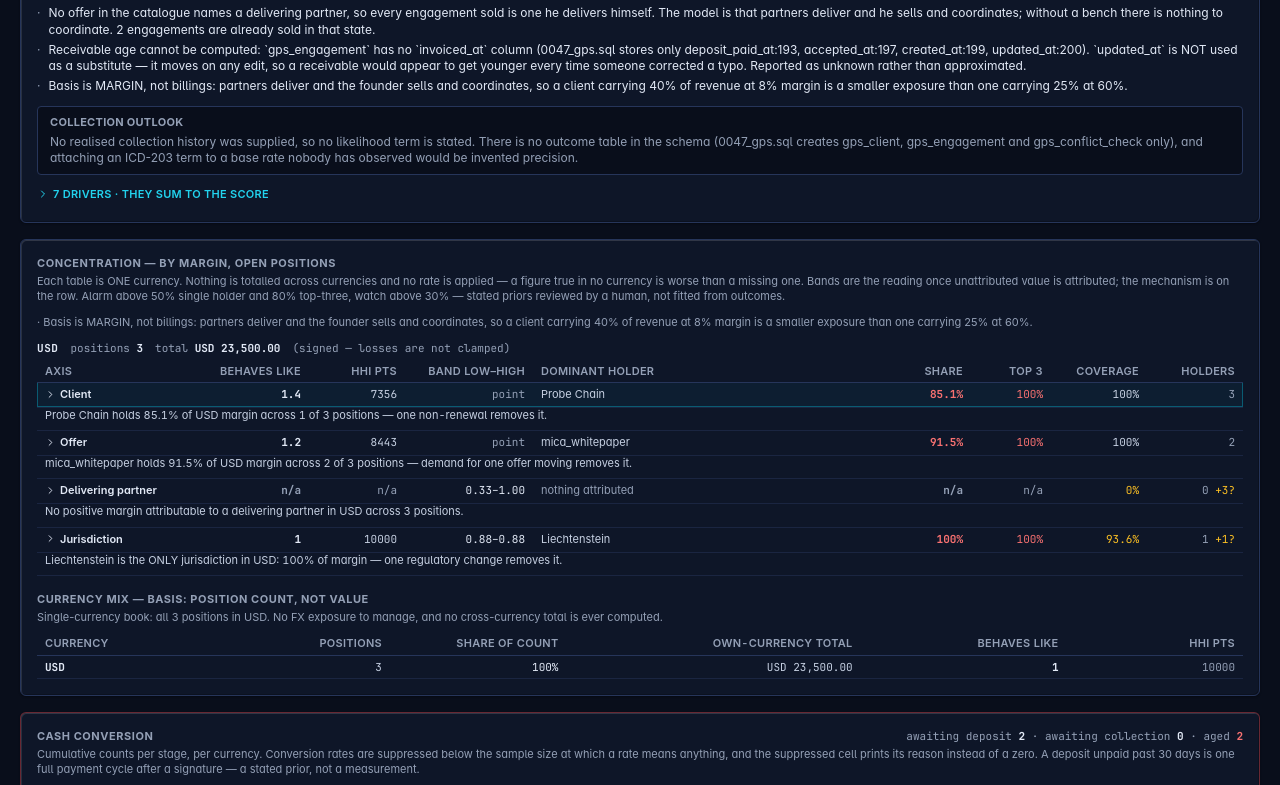
Scenario: GpsBook · concentration renders from a fixture and opens onto its holders › opens an axis onto the actual holder rows behind the index (D1)
(page scrolled)
Click the button with test id "axis-open-USD-client": (68, 394) [45,387,91,401]
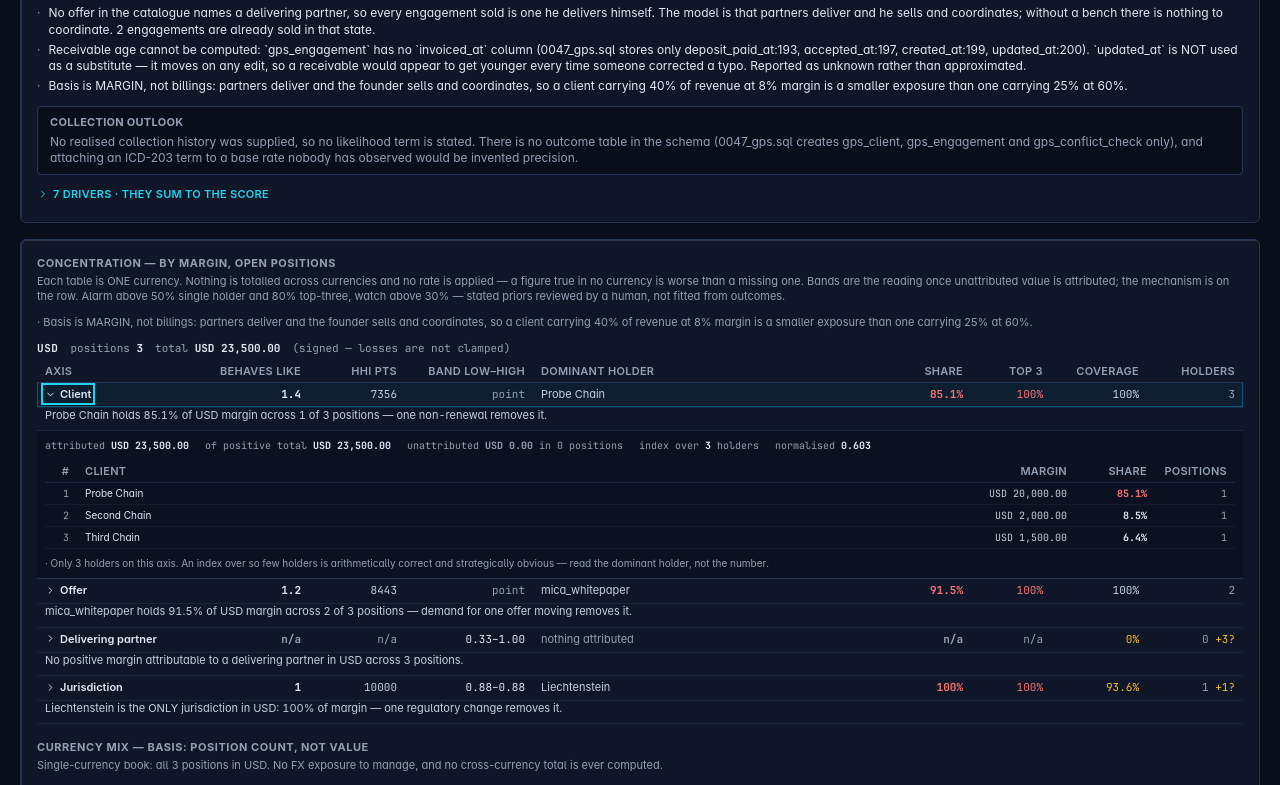
Expected: the text "Second Chain" is shown, [77,505,931,527]
Expected: the text "Third Chain" is shown, [77,527,931,549]
Expected: the text "of positive total USD 23,500.00" is shown, [205,439,391,452]
